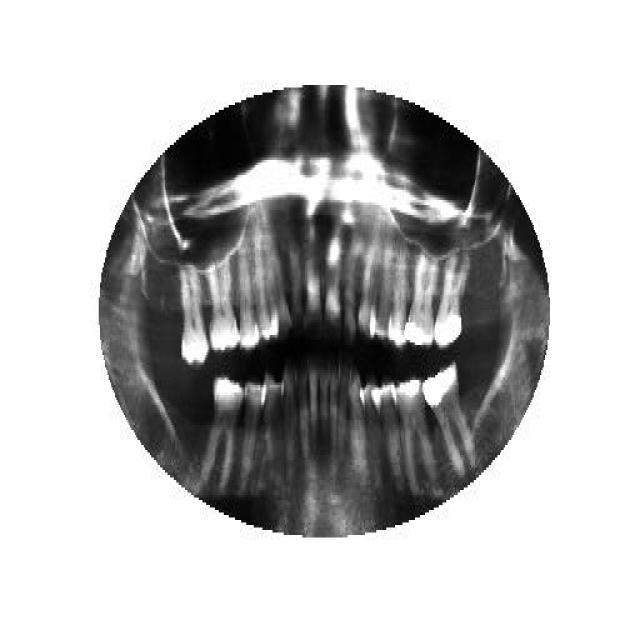Fillings: (421, 360, 475, 478), (406, 250, 439, 348)
